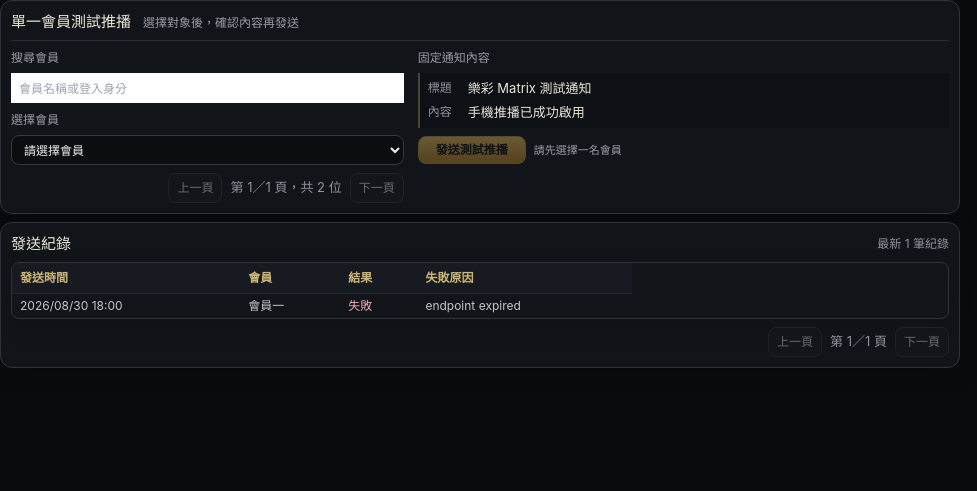
it: NotificationManagement › keeps stale logs visible after a refresh failure and recovers with retry
The width and height of the screenshot is (977, 491).
Select "會員一" in the dropdown named "選擇會員": (207, 150) [11,135,404,165]
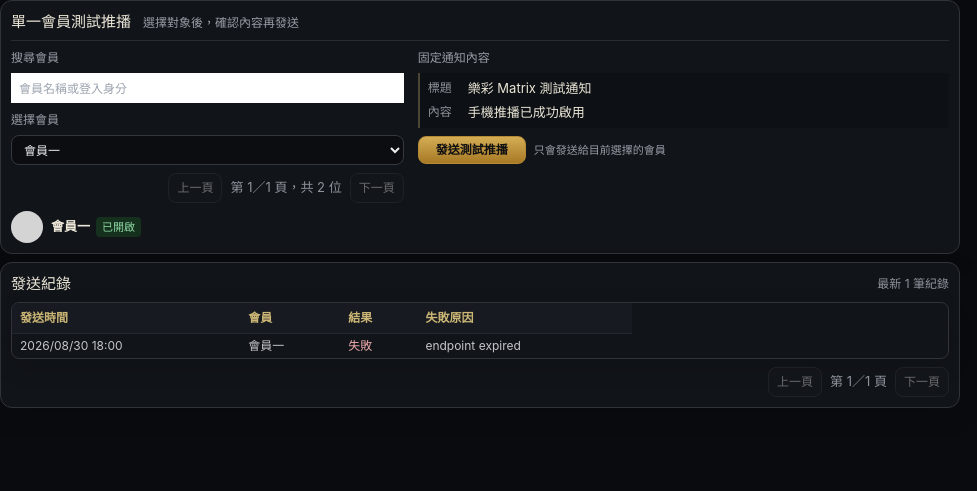
Click the button "發送測試推播": (472, 150) [418,136,526,164]
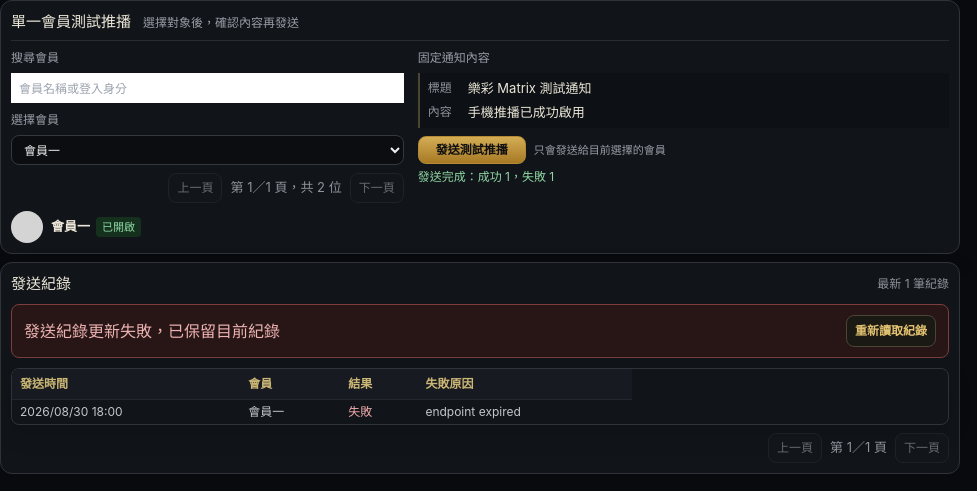
Check: the text "endpoint expired" is shown, box [417,400,632,424]
Check: the text "發送紀錄更新失敗" is shown, box [24,321,280,341]
Click the button "重新讀取紀錄": (891, 331) [846,315,936,347]
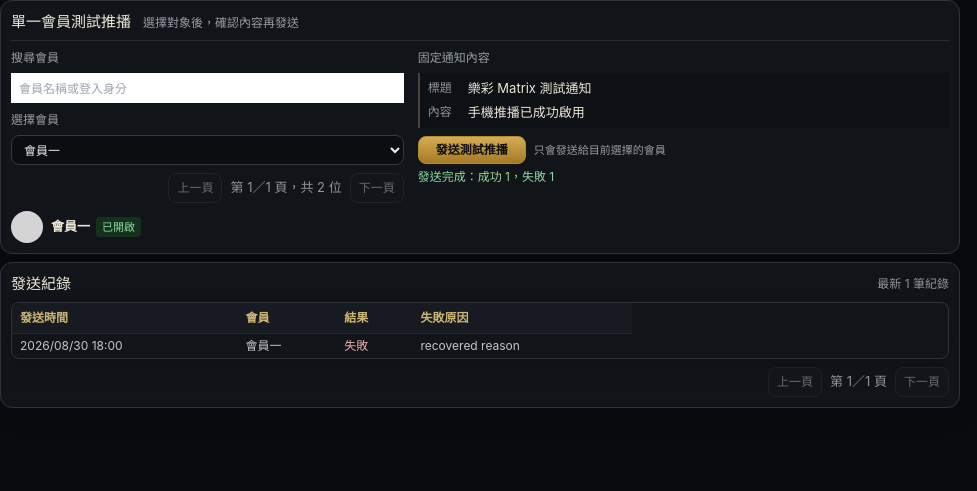
Check: the text "recovered reason" is shown, box [412,334,632,358]
Check: the text "發送紀錄更新失敗" is gone
